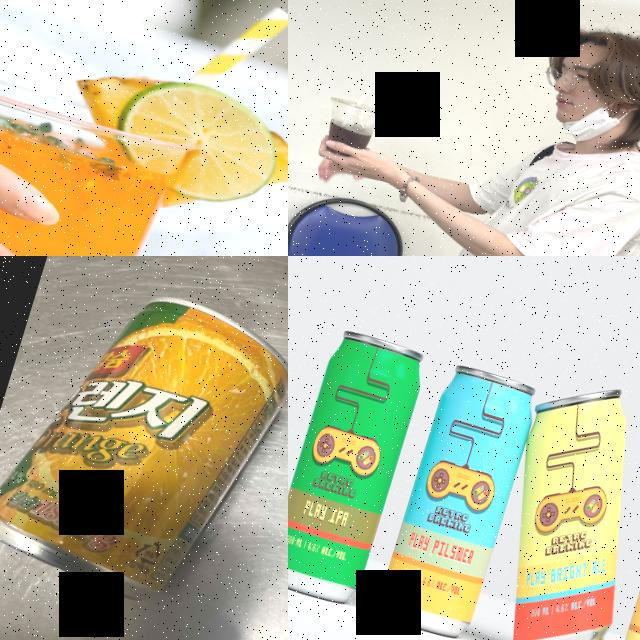can: (0, 256, 288, 628), (463, 365, 640, 640), (372, 359, 542, 640), (288, 326, 430, 610)
cup: (0, 45, 199, 256), (311, 94, 387, 166)
